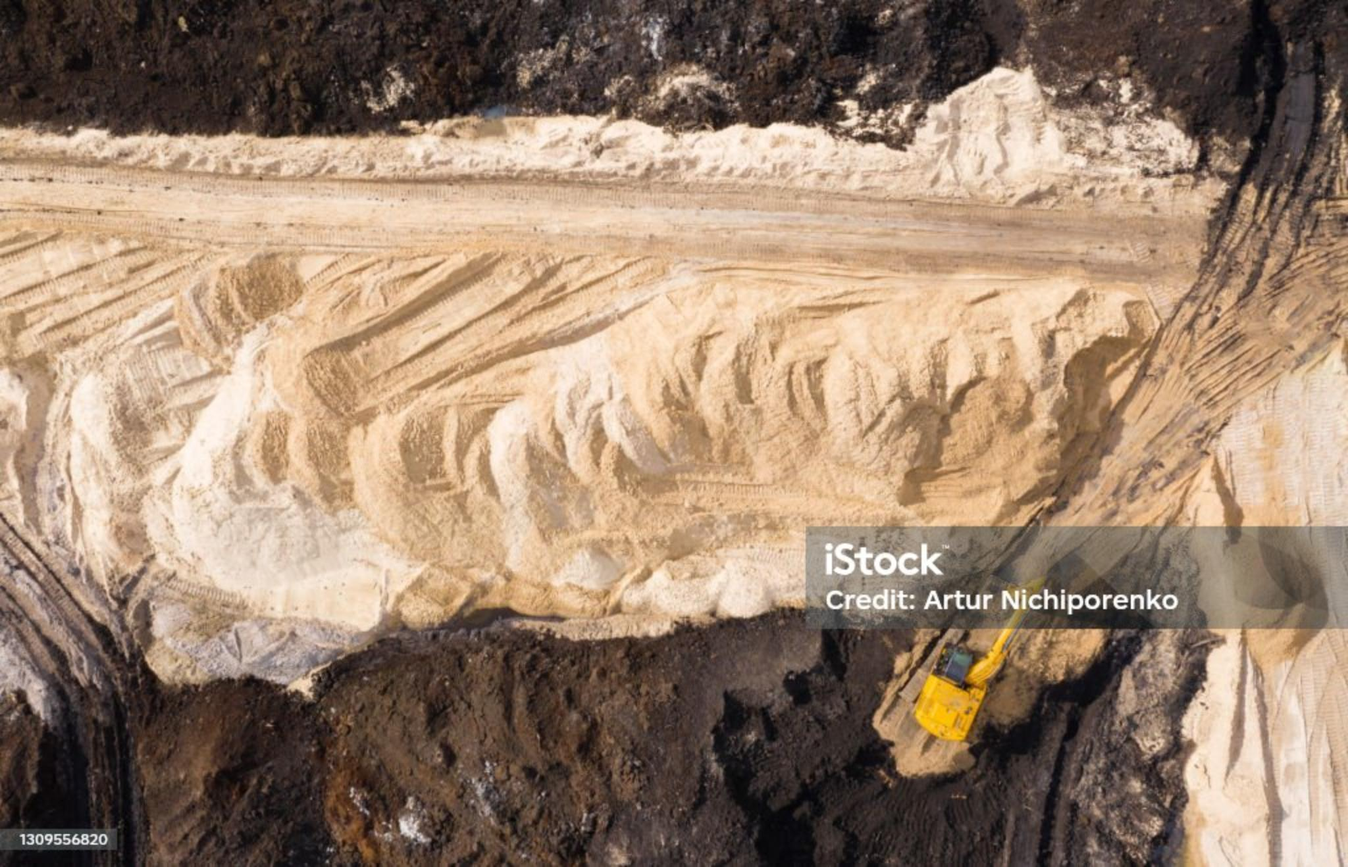benches: (0, 42, 1347, 521)
excavator: (903, 620, 1042, 757)
